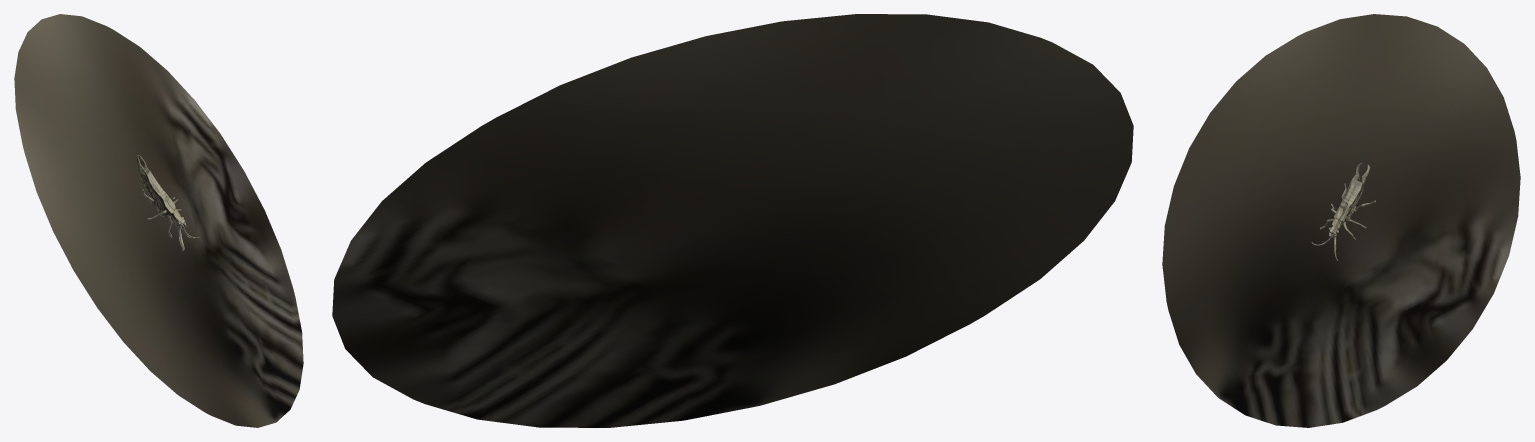
File: earwig.gltf
3 views of the same model, side by side, from view 1: azimuth 30°, elevation 25°; view 2: azimuth 150°, elevation 25°; view 3: azimuth 270°, elevation 25° (orthographic). The views are drawn at different scales.
Visible parts, largest first — view 1: Plane, Mesh_0.002; view 2: Plane; view 3: Plane, Mesh_0.002.
Boxes of the visible parts, x1,y1,x2,y2 form: Plane: (14,14,303,427); Mesh_0.002: (137,155,199,250); Plane: (332,14,1133,427); Plane: (1162,14,1520,427); Mesh_0.002: (1311,162,1375,260).
Bounding box in the file's own units: 0.7054 × 0.7038 × 0.7222.
